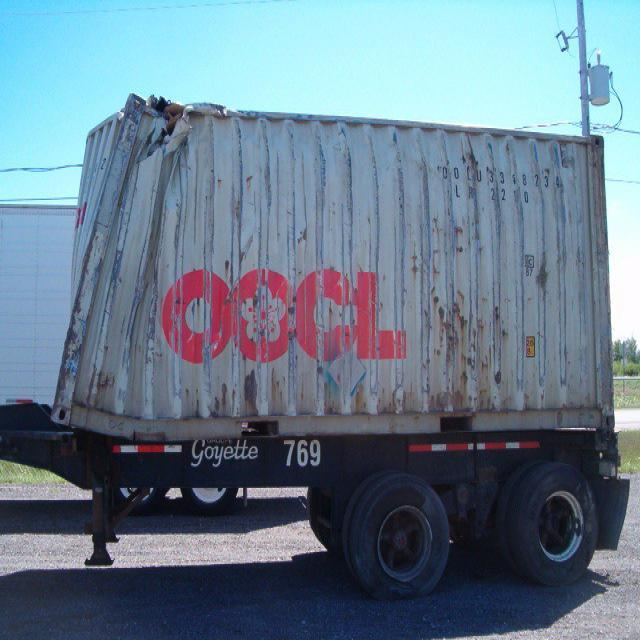hole: (82, 95, 224, 429), (444, 120, 602, 198)
rust: (406, 204, 506, 422), (233, 359, 313, 417)
